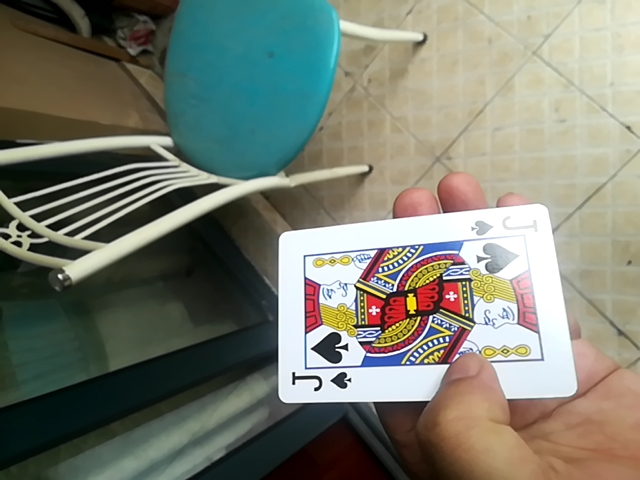ht j: (273, 204, 574, 407)
